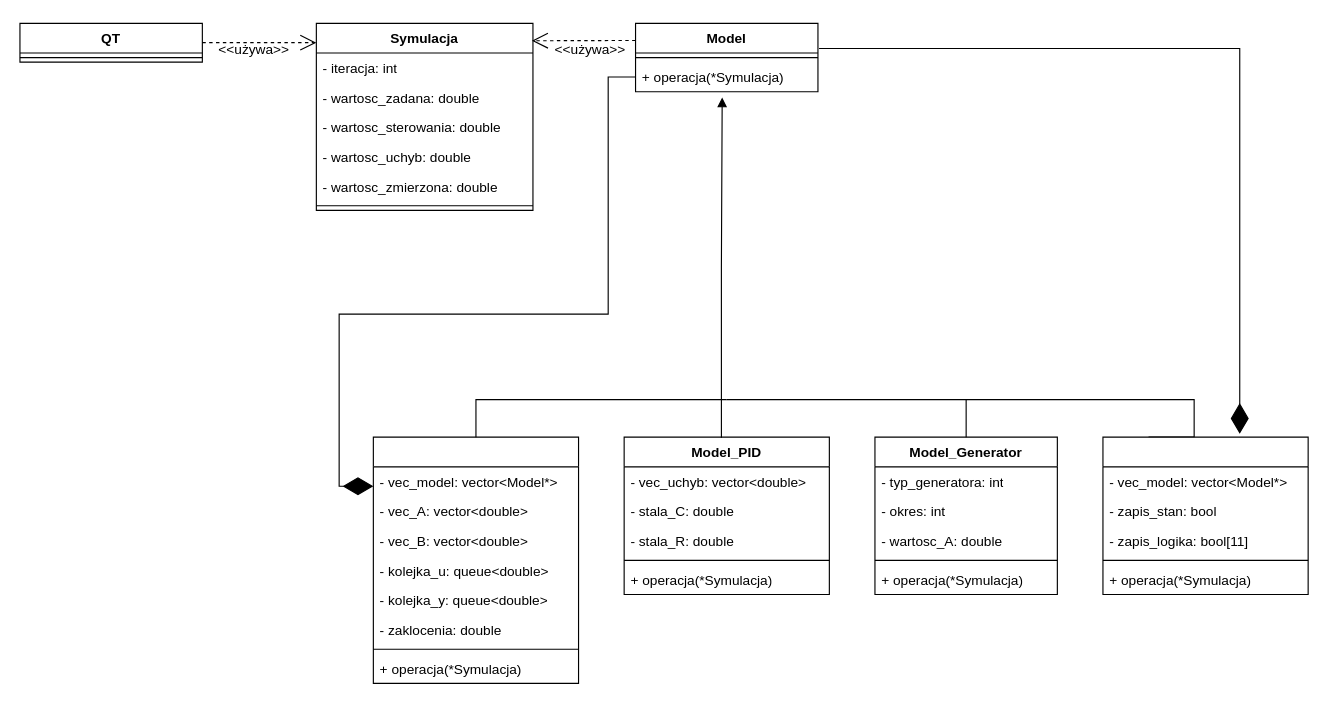
The diagram is 1328 pixels wide and 707 high, and some of its shapes have lost their labels. The shapes that lost their labels are listed below. From the top down, each one's box as (x1, y1, x2, y2) in pixels, then its label:
(1102, 436, 1308, 595): Model_Zapis
(372, 436, 579, 683): Model_ARX
